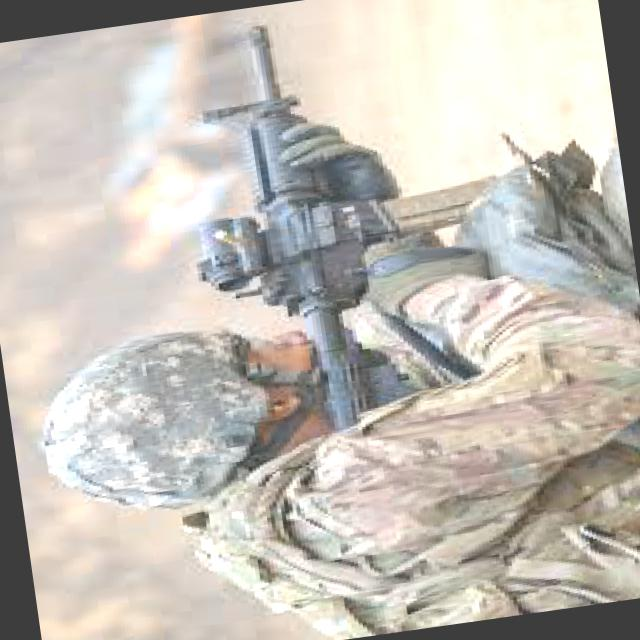long weapon: (142, 2, 428, 326)
